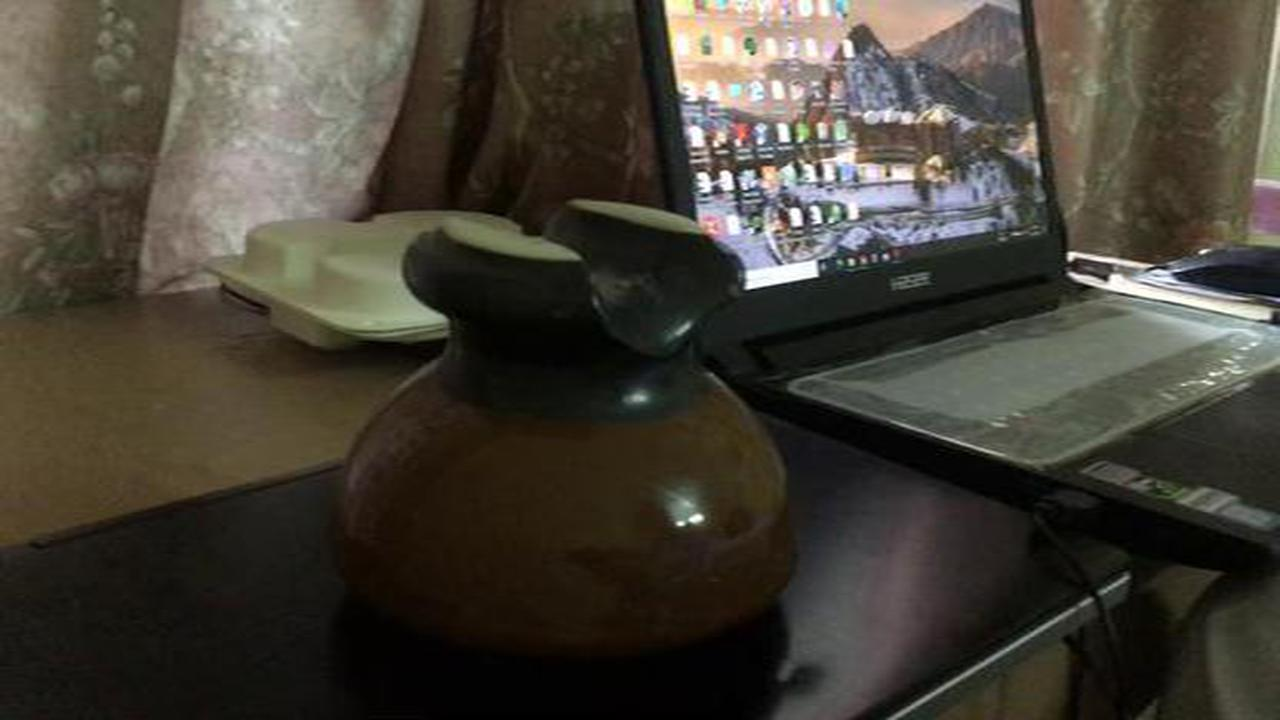insulator_pin: (314, 182, 813, 676)
